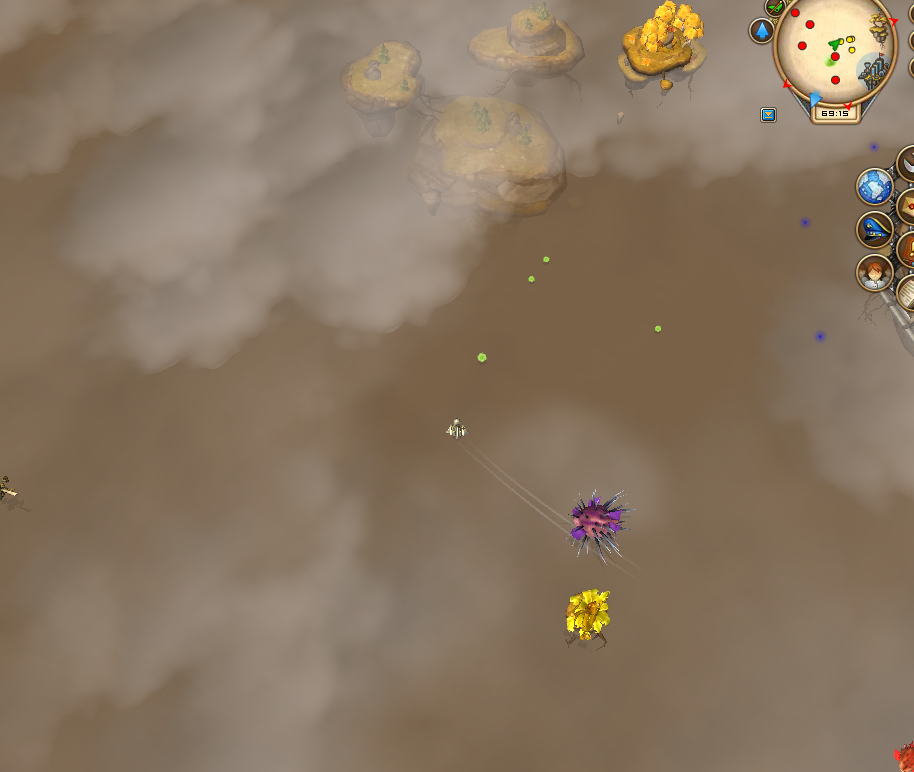dandelion-empty: (561, 585, 617, 649)
fluff: (474, 350, 488, 364), (525, 273, 537, 284), (540, 254, 552, 264), (654, 322, 663, 334)
